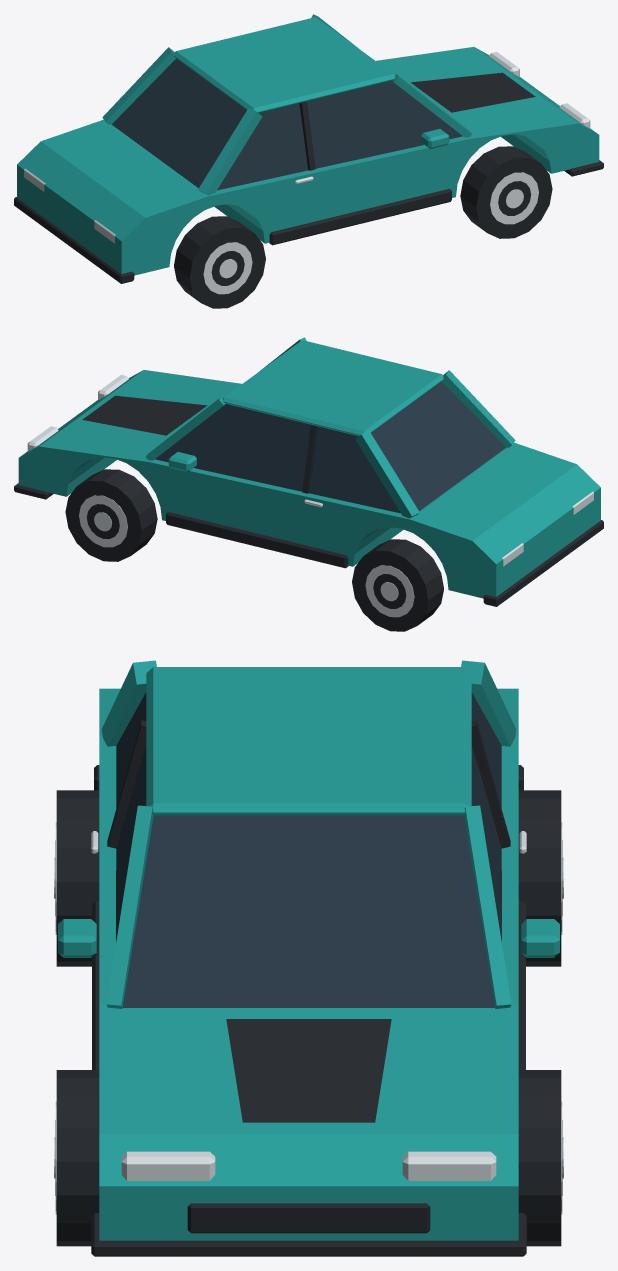
The model's file is street_car_v1.glb.
The picture shows the model from 3 angles, top to bottom: view 1: azimuth 30°, elevation 25°; view 2: azimuth 150°, elevation 25°; view 3: azimuth 270°, elevation 25°; orthographic projection. The views are drawn at different scales.
Visible parts, largest first — view 1: Body, Wheel_Front_Right, Wheel_Rear_Right; view 2: Body, Wheel_Front_Left, Wheel_Rear_Left; view 3: Body, Wheel_Front_Left, Wheel_Front_Right, Wheel_Rear_Left, Wheel_Rear_Right.
Boxes of the visible parts, box(x1,y1,x2,y2) form: Body: box(14, 14, 603, 283); Wheel_Front_Right: box(460, 146, 552, 238); Wheel_Rear_Right: box(174, 216, 265, 308); Body: box(14, 337, 603, 606); Wheel_Front_Left: box(65, 469, 157, 561); Wheel_Rear_Left: box(352, 539, 443, 631); Body: box(58, 660, 559, 1256); Wheel_Front_Left: box(518, 1070, 563, 1246); Wheel_Front_Right: box(54, 1070, 99, 1246); Wheel_Rear_Left: box(518, 790, 563, 966); Wheel_Rear_Right: box(54, 790, 99, 966).
Size of the model in its own units: 4.05 by 1.37 by 1.85.
